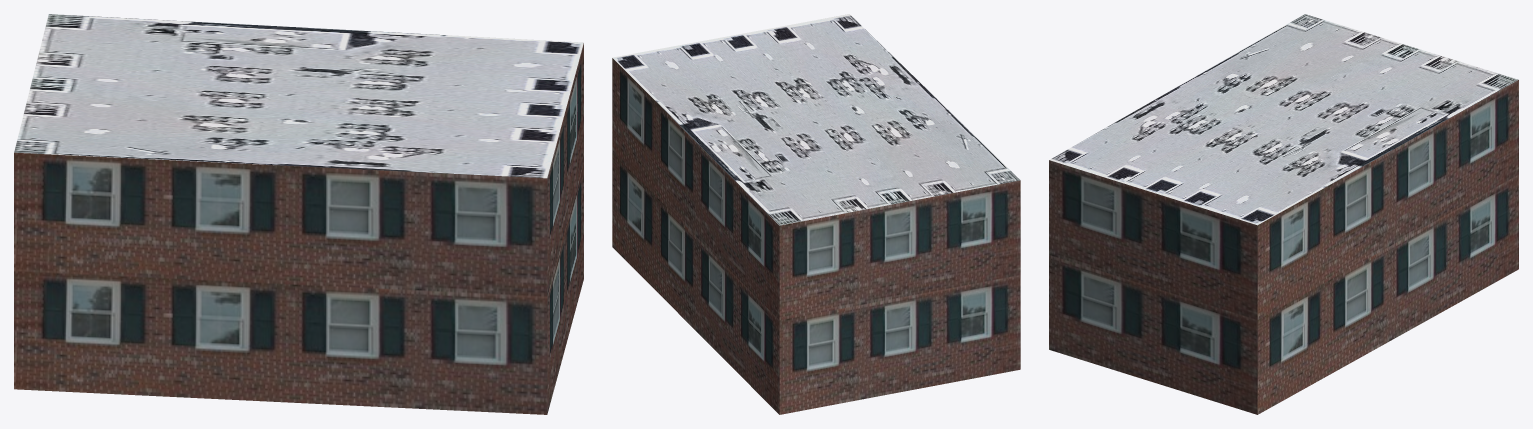
File: ResTex__1979.fbx
3 renders of one model, left to right at view 1: azimuth 30°, elevation 25°; view 2: azimuth 150°, elevation 25°; view 3: azimuth 270°, elevation 25°, orthographic. The views are drawn at different scales.
Visible parts, largest first — view 1: CityEngineMaterial_14_m, CityEngineMaterial_4_m; view 2: CityEngineMaterial_14_m, CityEngineMaterial_4_m; view 3: CityEngineMaterial_14_m, CityEngineMaterial_4_m.
Boxes of the visible parts, left/top/right/bottom form: CityEngineMaterial_14_m: left=14, top=43, right=583, bottom=414; CityEngineMaterial_4_m: left=14, top=14, right=583, bottom=178; CityEngineMaterial_14_m: left=612, top=58, right=1020, bottom=414; CityEngineMaterial_4_m: left=612, top=14, right=1020, bottom=225; CityEngineMaterial_14_m: left=1049, top=80, right=1518, bottom=414; CityEngineMaterial_4_m: left=1049, top=14, right=1518, bottom=225.
Bounding box in the file's own units: 14.34 × 6 × 13.47.
2 materials, 2 textured.
